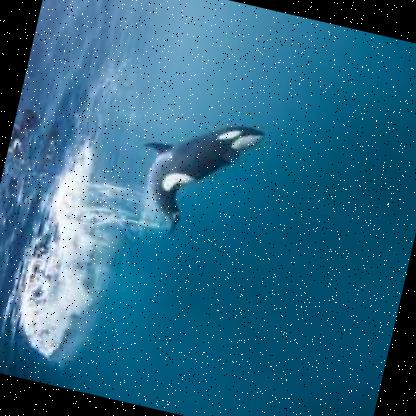killer_whale: (126, 99, 280, 262)
